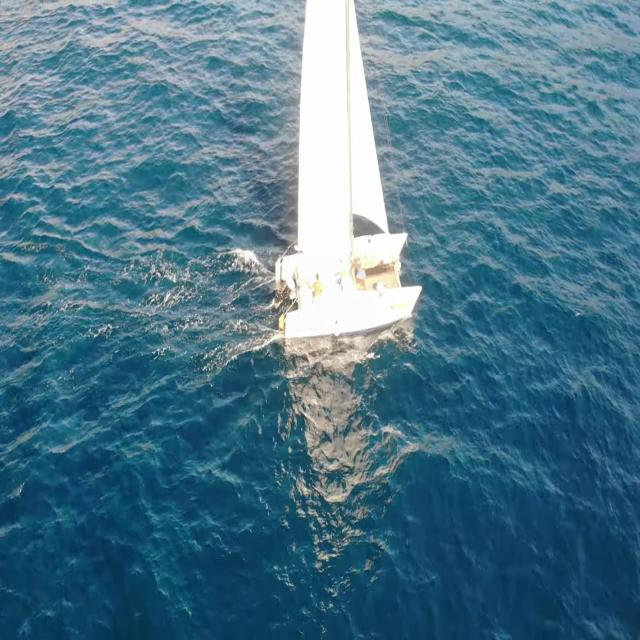sailboat: (271, 0, 423, 343)
